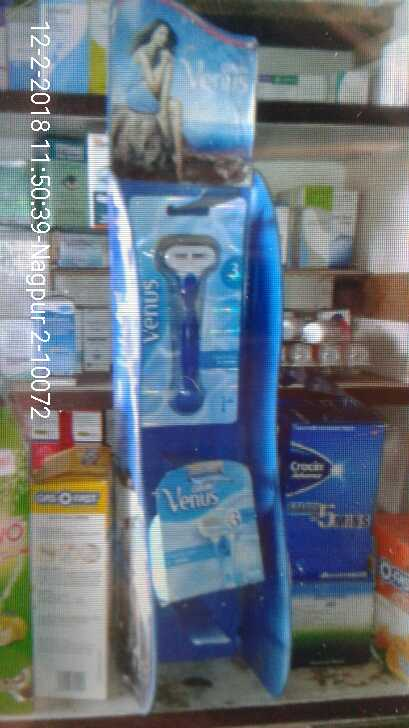venus: (131, 194, 236, 428), (152, 461, 267, 599)
